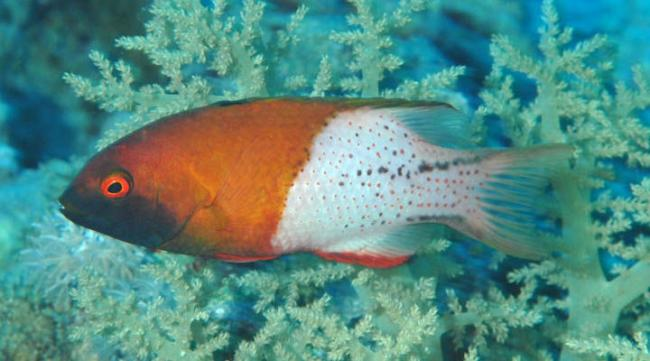fish: (58, 96, 576, 267)
